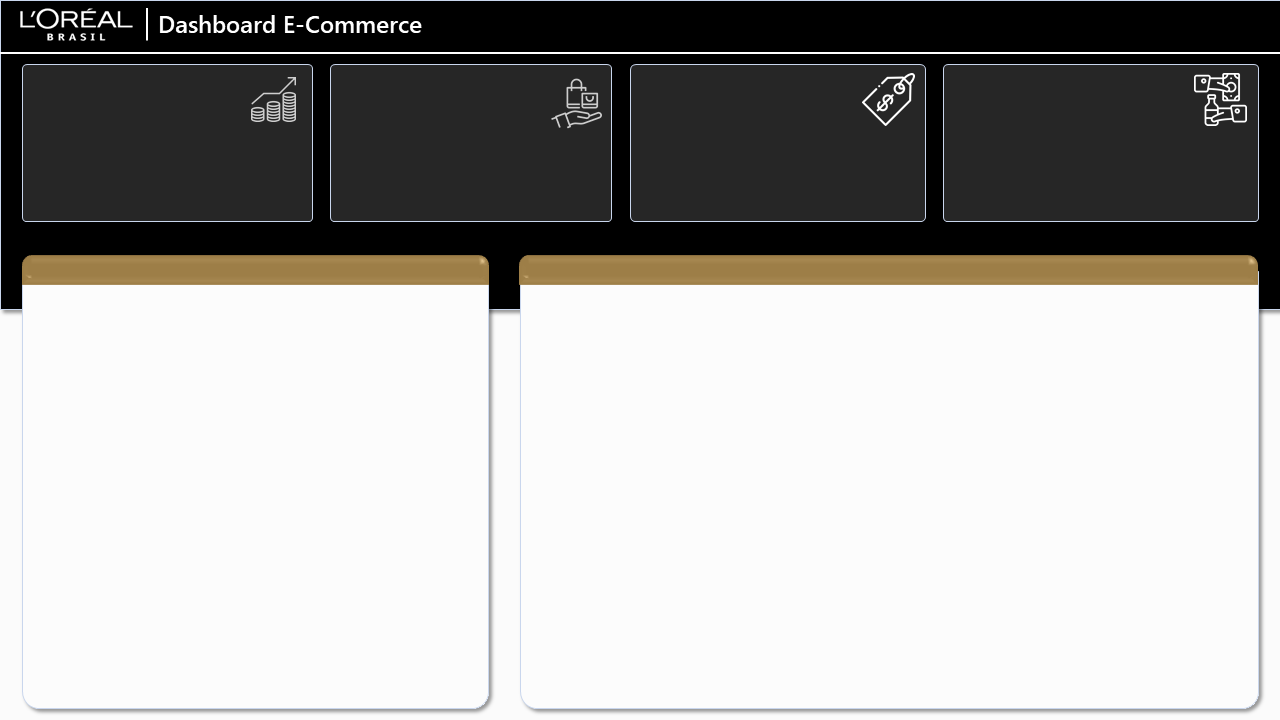

Layout of this report page (visuals, bound fields, positions):
{"tool":"powerbi","page":{"name":"Inicio","canvas":[1280,720],"ordinal":0},"visuals":[{"type":"shape","box":[479.1,448.4,124.8,68.6],"z":0},{"type":"shape","box":[650.5,448.4,124.8,68.6],"z":1000}]}

Visuals, with their boxes in screenshot pixels (x1, y1, x2, y2), scaled from the page's 1280x720 canvas onto the 1280x720 screenshot:
shape: crop(479, 448, 604, 517)
shape: crop(650, 448, 775, 517)
